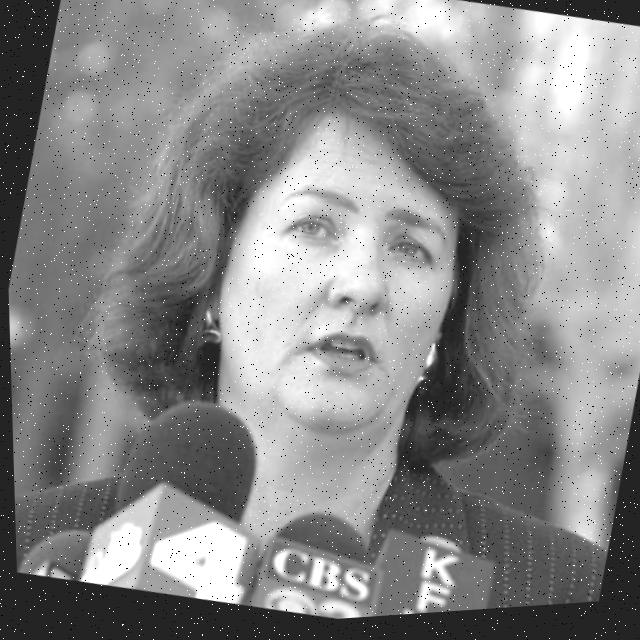face: (201, 114, 479, 462)
